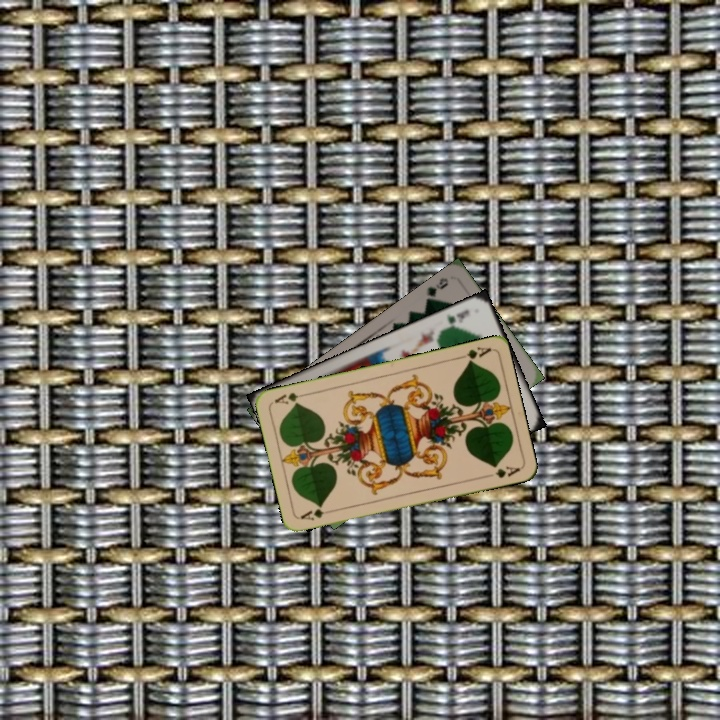G9: (422, 273, 451, 307)
GA: (453, 343, 493, 365), (297, 505, 326, 523)
GK: (440, 306, 472, 331)
